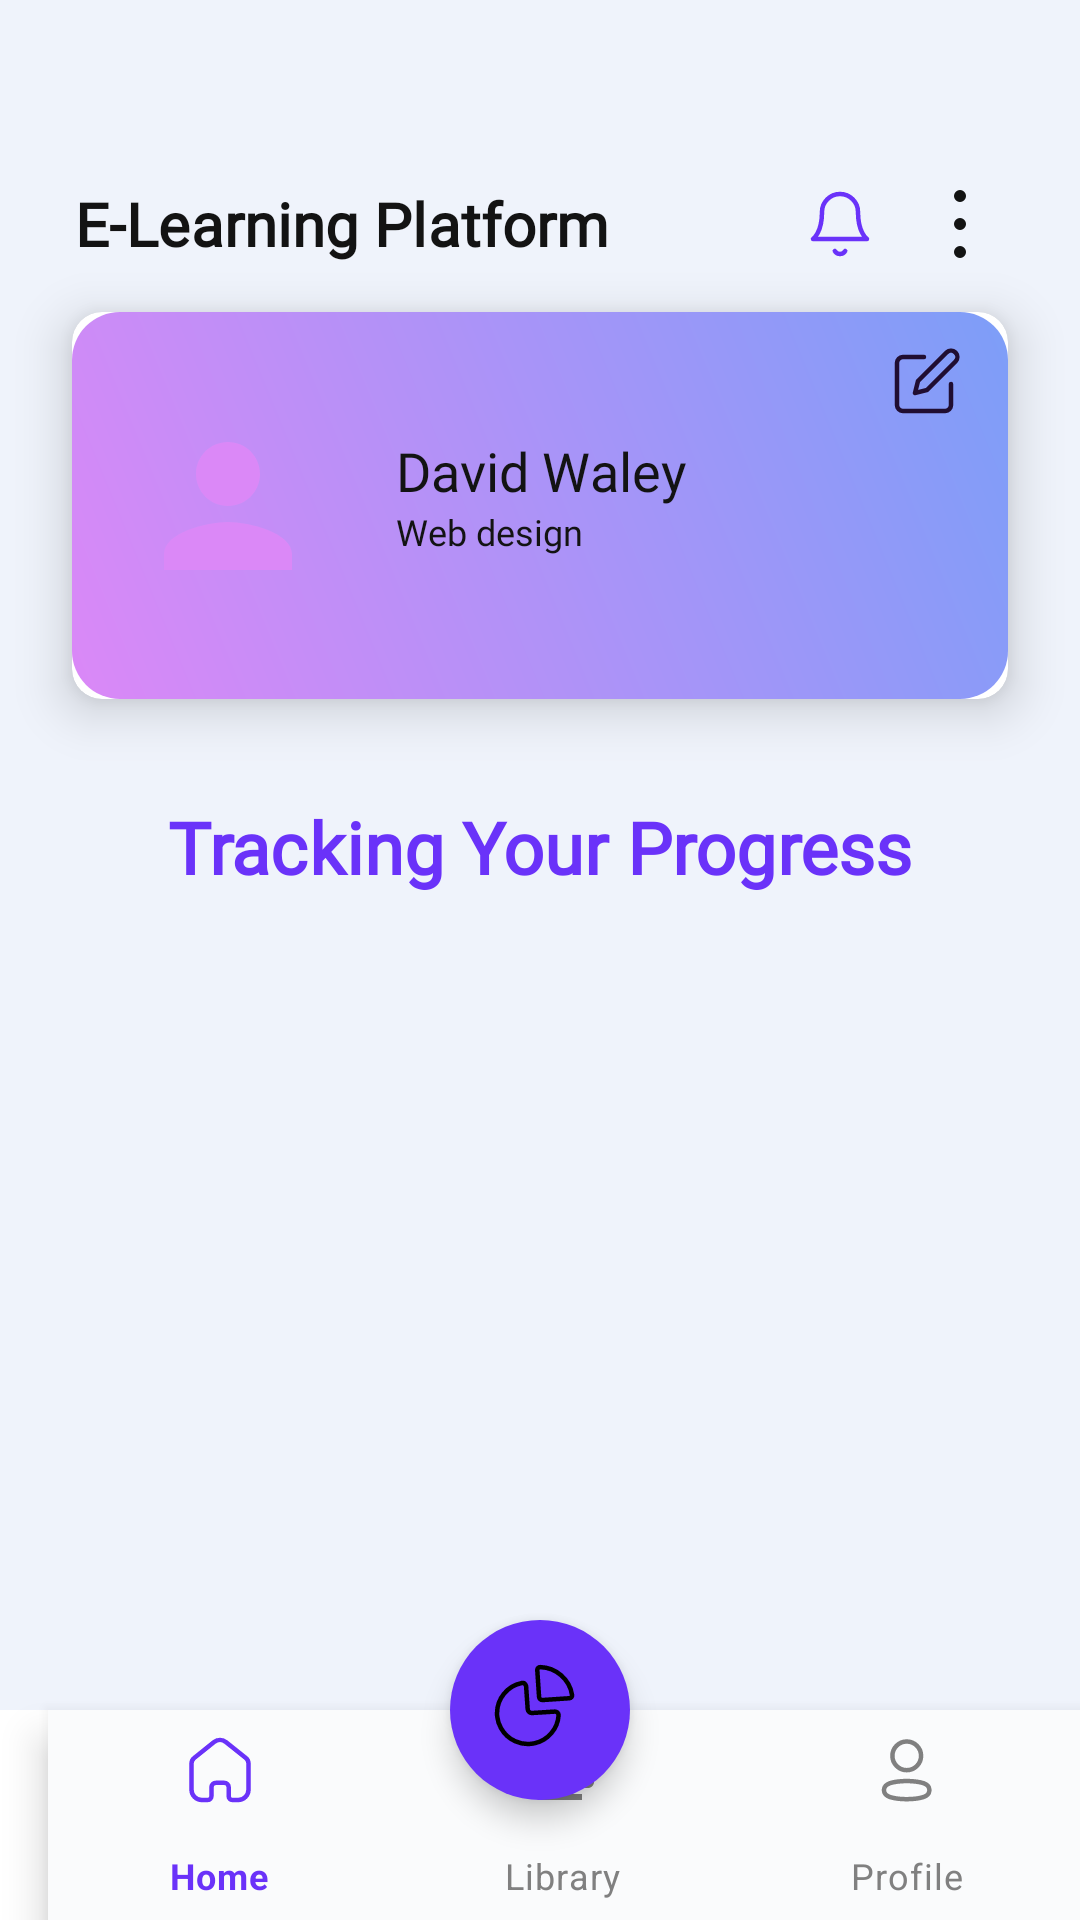

Where to tap for icons on this 1080×1920 app screen, as (x=x, y=y):
Edit profile: (x=927, y=381)
More options: (x=960, y=224)
Notifications: (x=840, y=224)
View Progress: (x=540, y=1710)
